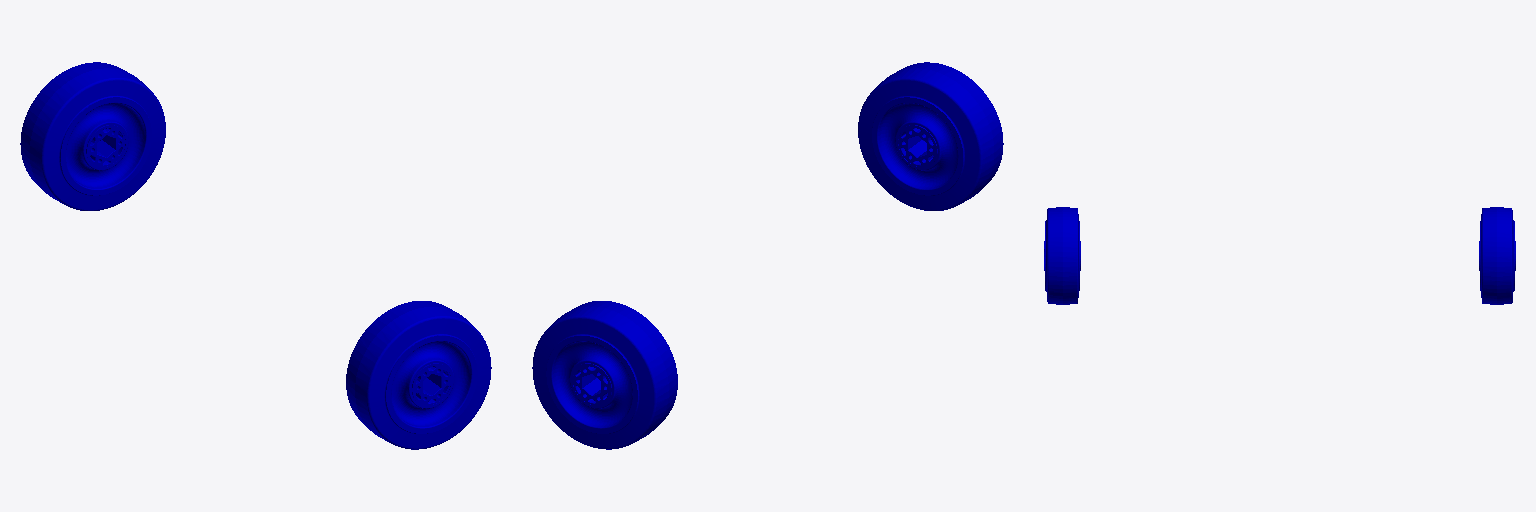
The robot description file, URDF, robot "qbot_platform":
<?xml version="1.0"?>
<robot  name='qbot_platform'>
    <material name="Blue">
        <color rgba="0.0 0.0 0.8 1.0"/>
    </material>

  <link name='base_link'>
    <visual>
		  <origin xyz = "0 0 0" rpy = "0.0 0.0 0" />
      <geometry>
        <mesh filename="package://qbot_platform/meshes/qbot_platform_body.stl" scale="0.001 0.001 0.001"/>
      </geometry>

    </visual>
    <inertial>
		  <origin xyz = "0 0 0" rpy = "0 0.0 0.0" />
      <mass  value = "20.87" />
      <inertia ixx  = "0.001" ixy = "0" ixz = "0" iyy = "0.001"  iyz = "0" izz =  "0.8122" />
    </inertial>
    <collision>
        <origin rpy="0 0 0" xyz="0 0 0"/>
        <geometry>
            <mesh filename="package://qbot_platform/meshes/qbot_platform_body.stl" scale="0.001 0.001 0.001"/>
        </geometry>
    </collision>
  </link>
  <joint name='left_wheel_joint' type='revolute'>
    <parent link="base_link" />
    <child link ="left_wheel" />
		<origin xyz = "-0.015 0.1965 -0.06" rpy = "1.57 1.57 0" />
    <axis xyz =  "0 0 1" />
    <limit lower="-1e+16" upper="1e+16" effort="300" velocity="2"/>
  </joint>
  <link name='left_wheel'>
    <visual>
      <origin rpy="0 0 0" xyz="0 0 0"/>
      <geometry>
        <mesh filename='package://qbot_platform/meshes/qbot_platform_wheel.stl' scale="0.001 0.001 0.001"/>
      </geometry>
      <material name="Blue"/>
    </visual>
    <inertial>
      <origin rpy="0 0 0" xyz="0 0 0"/>
      <mass value = "0.005" />
      <inertia ixx = "9.75e-07" ixy = "0" ixz = "0" iyy = "0.000166704" iyz= "0" izz = "0.000167604"/>
    </inertial>
    <collision>
      <origin rpy="0 0 0" xyz="0 0 0"/>
      <geometry>
        <mesh filename='package://qbot_platform/meshes/qbot_platform_wheel.stl' scale="0.001 0.001 0.001"/>
      </geometry>
    </collision>
  </link>
  <joint name='right_wheel_joint' type='revolute'>
    <parent link = "base_link" />
    <child link = "right_wheel" />
		<origin xyz = "-0.015 -0.1965 -0.06" rpy = "1.57 1.57 0" />
    <axis xyz= "0 0 1"/>
    <limit lower="-1e+16" upper="1e+16" effort="300" velocity="2"/>
  </joint>
  <link name='right_wheel'>
    <visual>
      <origin rpy="0 0 0" xyz="0 0 0"/>
      <geometry>
        <mesh filename='package://qbot_platform/meshes/qbot_platform_wheel.stl' scale="0.001 0.001 0.001"/>
      </geometry>
      <material name="Blue"/>
    </visual>
    <inertial>
      <origin rpy="0 0 0" xyz="0 0 0"/>
      <mass value = "0.005" />
      <inertia
        ixx = "9.75e-07"
        ixy = "0"
        ixz = "0"
        iyy = "0.000166704"
        iyz= "0"
        izz = "0.000167604"/>
    </inertial>
    <collision>
      <origin rpy="0 0 0" xyz="0 0 0"/>
      <geometry>
        <mesh filename='package://qbot_platform/meshes/qbot_platform_wheel.stl ' scale="0.001 0.001 0.001"/>
      </geometry>
    </collision>
  </link>
  <transmission name="wheel_right_transmission">
    <robotNamespace>/qbot_platform</robotNamespace>
    <type>transmission_interface/SimpleTransmission</type>
    <joint name="right_wheel_joint">
        <hardwareInterface>PositionJointInterface</hardwareInterface>
    </joint>
    <actuator name="wheel_right_motor">
        <hardwareInterface>PositionJointInterface</hardwareInterface>
        <mechanicalReduction>1</mechanicalReduction>
    </actuator>
  </transmission>
  <transmission name="wheel_left_transmission">
      <robotNamespace>/qbot_platform</robotNamespace>
      <type>transmission_interface/SimpleTransmission</type>
      <joint name="left_wheel_joint">
          <hardwareInterface>PositionJointInterface</hardwareInterface>
      </joint>
      <actuator name="left_wheel_motor">
          <hardwareInterface>PositionJointInterface</hardwareInterface>
          <mechanicalReduction>1</mechanicalReduction>
      </actuator>
  </transmission>
</robot>

--- Render facts (derived) ---
3 views of the same robot in one strip: view 1: azimuth 30°, elevation 25°; view 2: azimuth 150°, elevation 25°; view 3: azimuth 270°, elevation 25° (orthographic).
Model qbot_platform with 3 links and 2 joints (2 revolute), rooted at base_link, posed all joints at 0.
Visible links, largest first — view 1: left_wheel, right_wheel; view 2: right_wheel, left_wheel; view 3: left_wheel, right_wheel.
Link boxes in pixels (bbox=[...]): left_wheel: bbox=[20, 62, 165, 210]; right_wheel: bbox=[346, 301, 491, 449]; right_wheel: bbox=[858, 62, 1003, 210]; left_wheel: bbox=[532, 301, 677, 449]; left_wheel: bbox=[1479, 207, 1515, 304]; right_wheel: bbox=[1044, 207, 1080, 304].
Bounding box of the posed robot: 0.0889 × 0.4261 × 0.0889 m (x, y, z).
2 mesh visuals loaded from 2 distinct referenced files (1 binary STL); not drawn: 1 (reference not matched to a file when rendering).